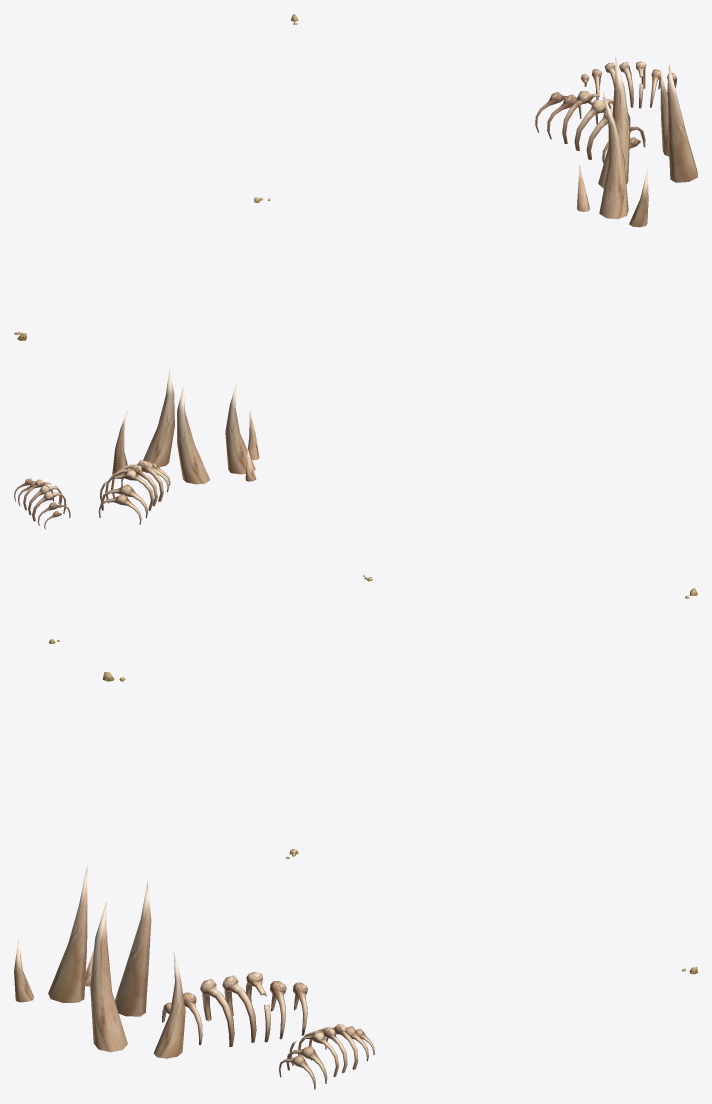
The model's file is area_12_22.fbx.
The picture shows the model from 3 angles, top to bottom: view 1: azimuth 30°, elevation 25°; view 2: azimuth 150°, elevation 25°; view 3: azimuth 270°, elevation 25°; orthographic projection. The views are drawn at different scales.
Visible parts, largest first — view 1: area_12_22; view 2: area_12_22; view 3: area_12_22.
Boxes of the visible parts, <box> form: area_12_22: <box>14,14,697,340</box>; area_12_22: <box>14,370,697,643</box>; area_12_22: <box>14,672,697,1089</box>.
Bounding box in the file's own units: 33.52 × 5.28 × 23.4.
